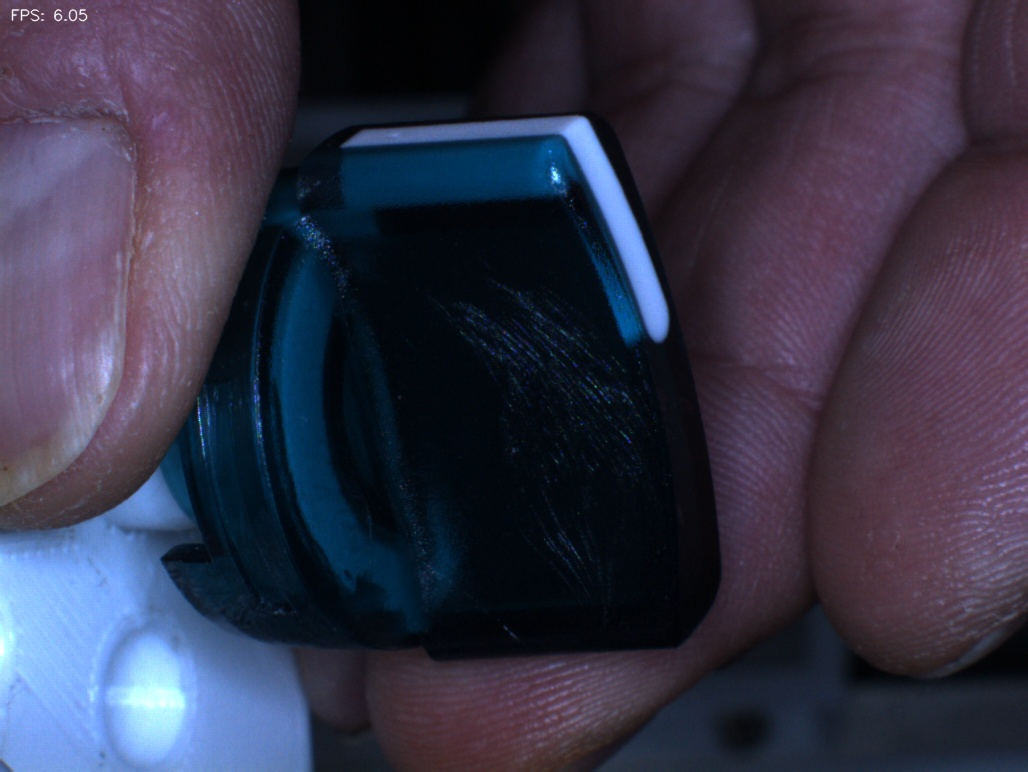Givrage: (447, 278, 654, 628)
